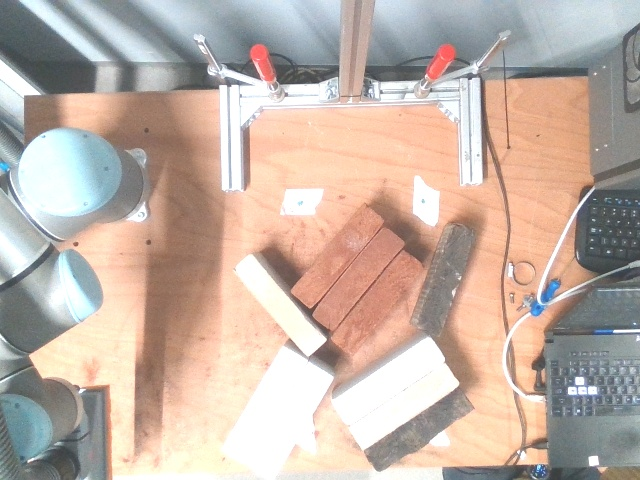brick-side: (223, 347, 305, 464), (313, 227, 404, 330), (291, 206, 383, 307), (249, 366, 331, 479), (333, 340, 443, 424), (349, 366, 458, 449), (234, 257, 324, 356), (365, 390, 472, 471), (332, 252, 418, 352), (416, 224, 477, 334)
